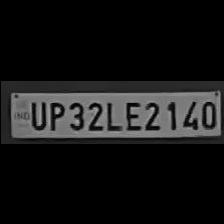0: (198, 97, 216, 128)
1: (161, 97, 179, 129)
2: (140, 97, 162, 130), (84, 97, 104, 130)
3: (64, 97, 84, 129)
4: (178, 96, 198, 130)
E: (121, 97, 141, 129)
L: (103, 97, 120, 130)
P: (44, 97, 64, 130)
U: (25, 97, 45, 129)
